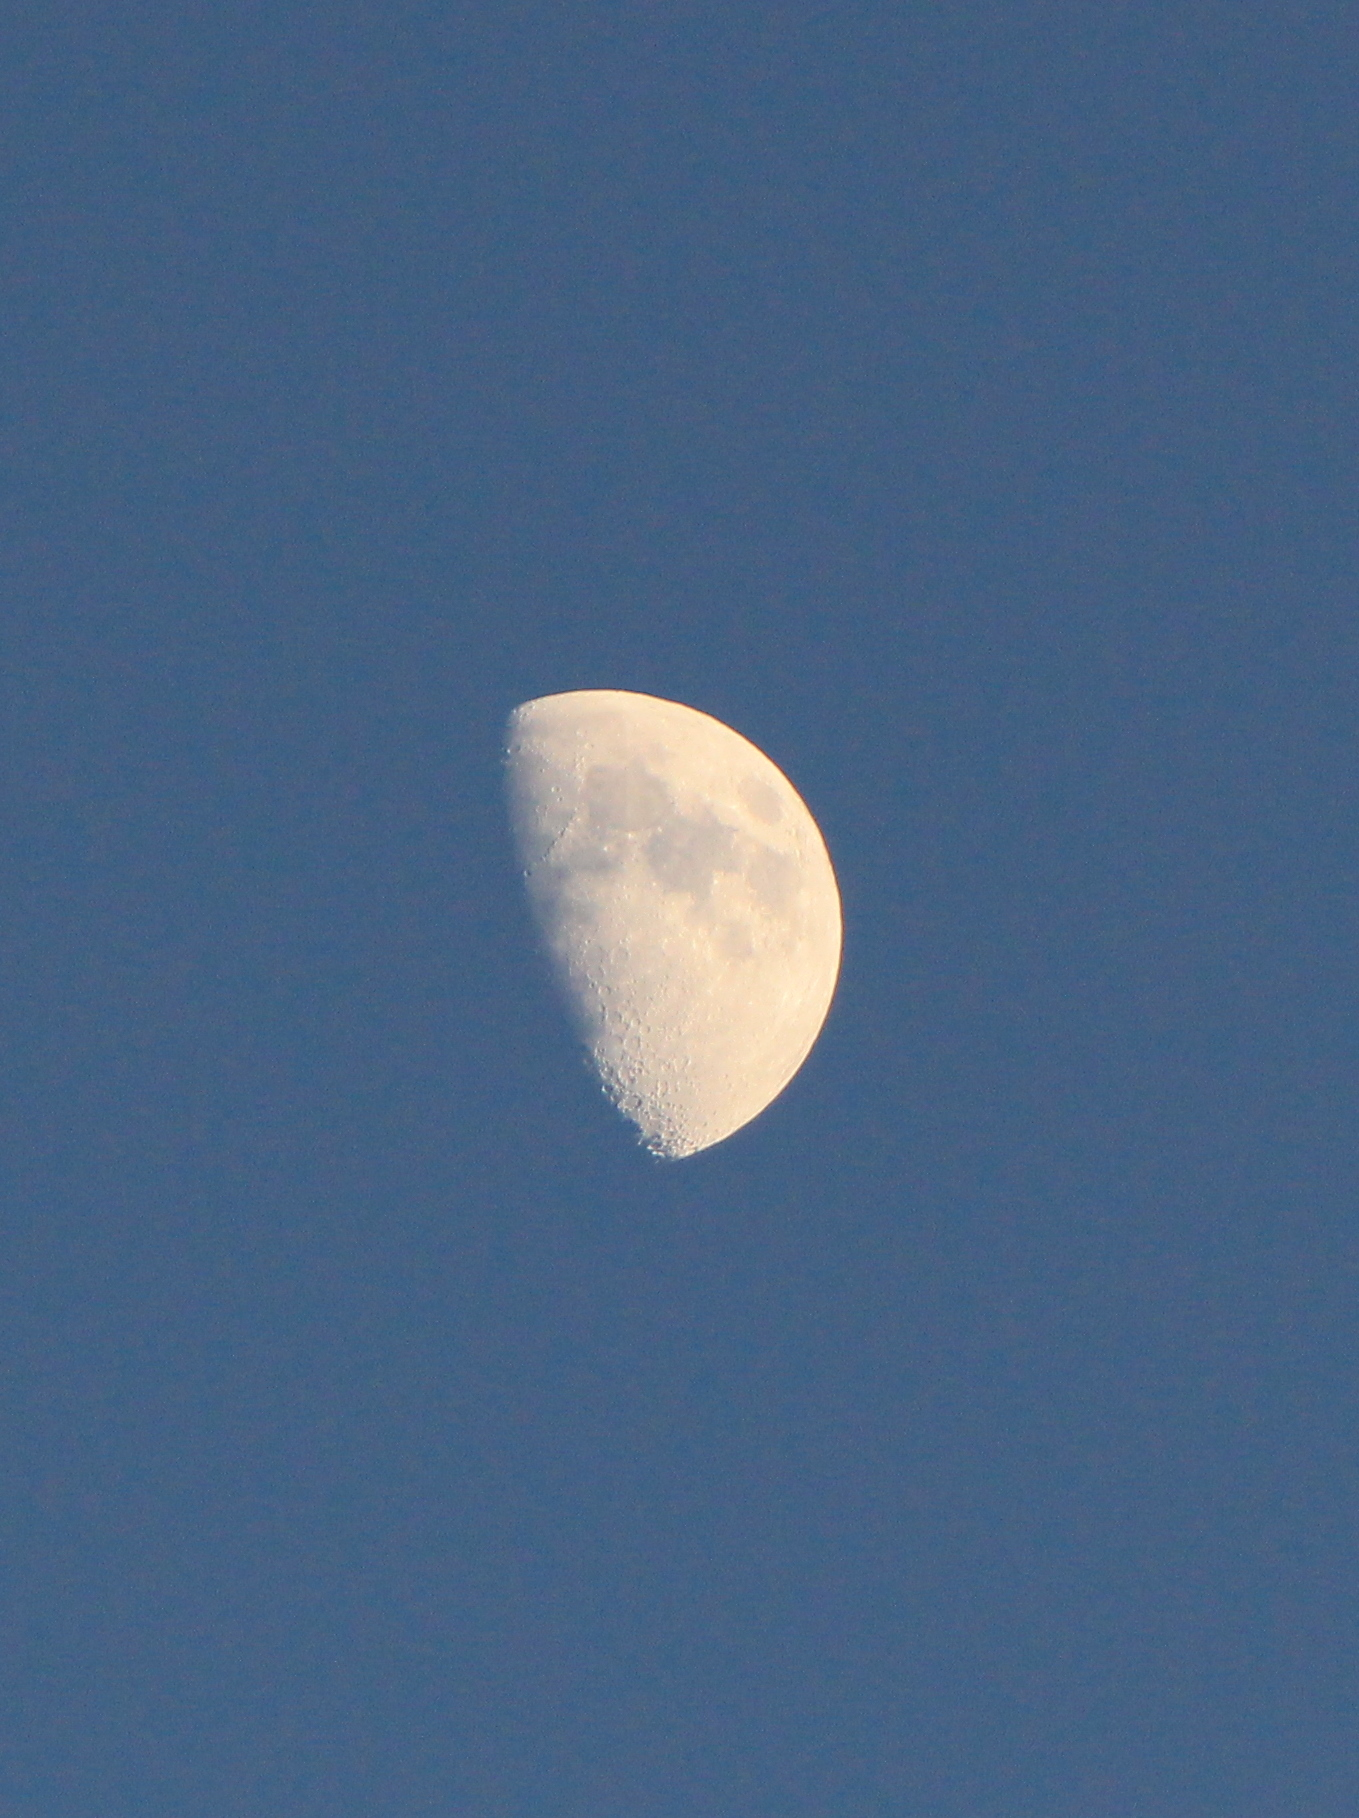crater: (607, 940, 635, 970), (578, 940, 608, 968), (502, 738, 530, 763), (622, 1030, 644, 1053), (571, 719, 594, 738), (580, 738, 601, 753)
